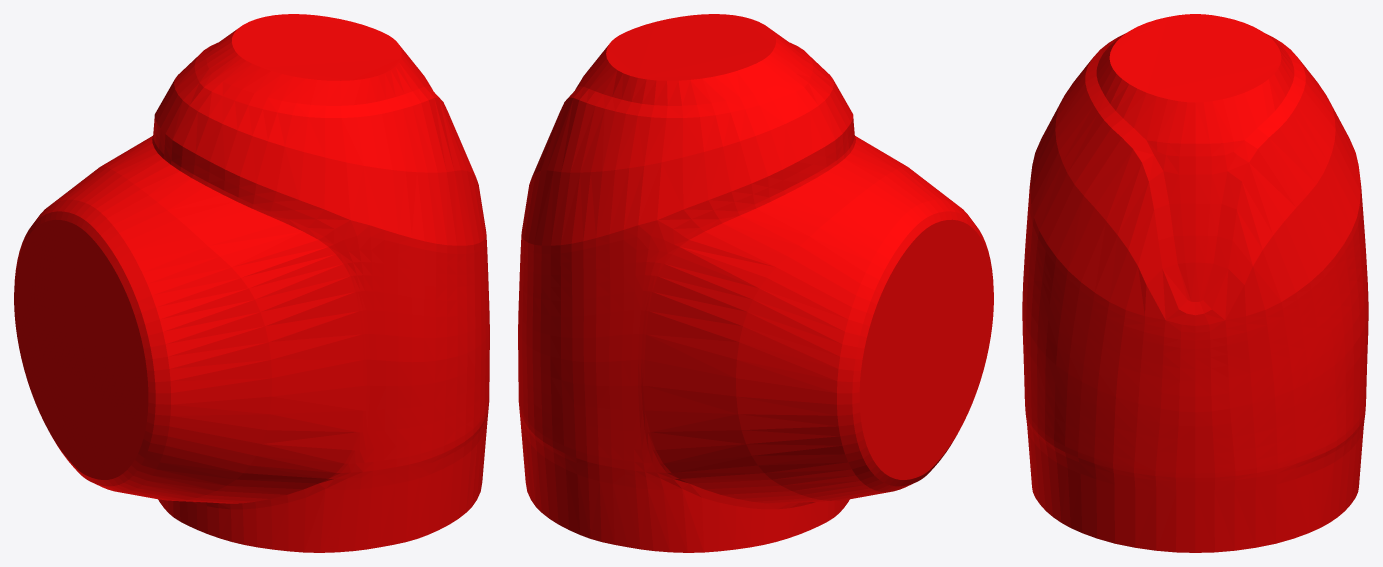
3 renders of one model, left to right at view 1: azimuth 30°, elevation 25°; view 2: azimuth 150°, elevation 25°; view 3: azimuth 270°, elevation 25°, orthographic.
Visible parts, largest first — view 1: MF0609_2_2; view 2: MF0609_2_2; view 3: MF0609_2_2.
Part boxes in pixels (box(x1,y1,x2,y2)): MF0609_2_2: box(14, 14, 489, 552); MF0609_2_2: box(518, 14, 993, 552); MF0609_2_2: box(1022, 14, 1368, 552).
Size of the model in its own units: 175 by 138 by 191.
